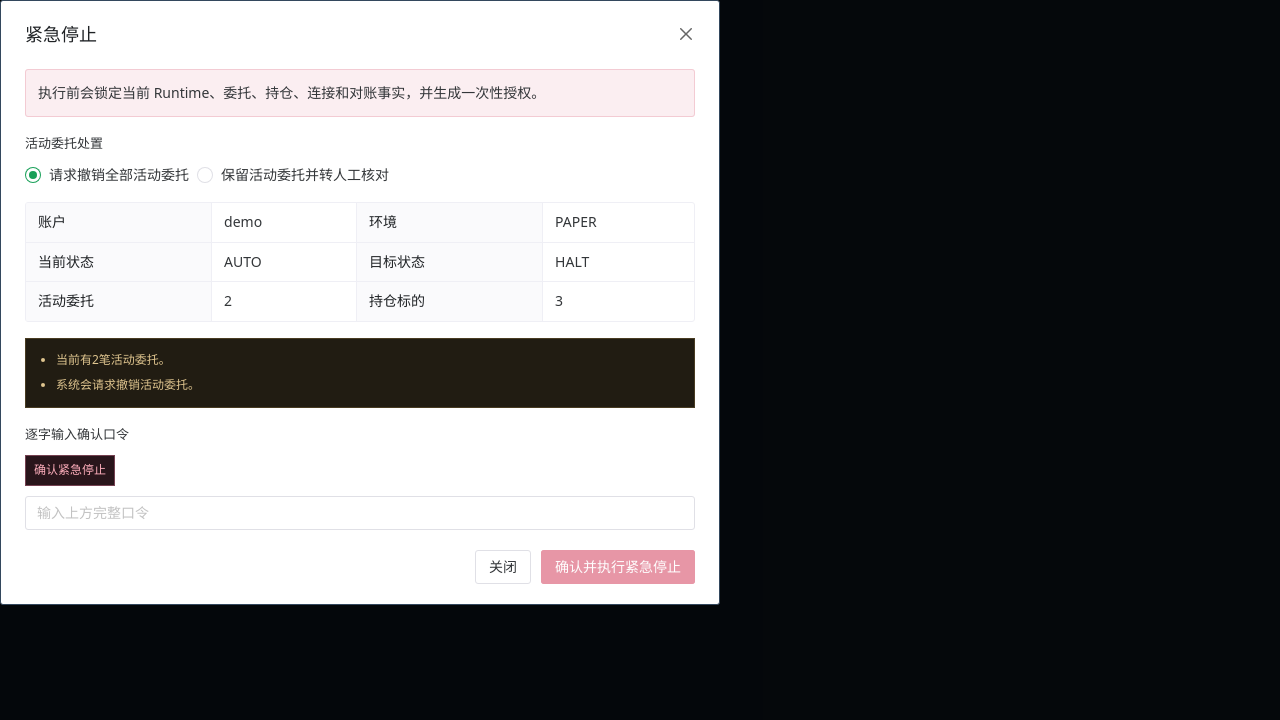
Test case: ProtectedControlDialog › shows live impact and requires the exact server phrase before execution
In the field with placeholder "输入上方完整口令": (360, 513) [37,496,683,530], type "确认紧急停止"
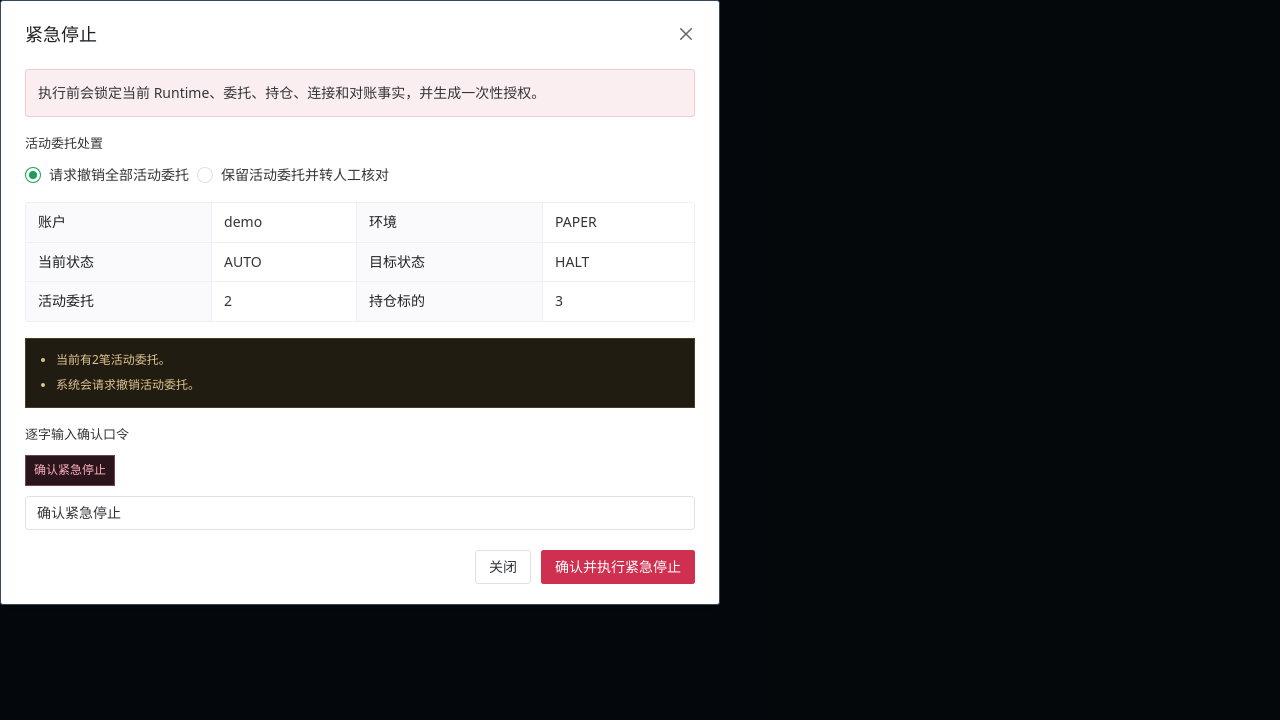
Click the button "确认并执行紧急停止": (618, 567) [541,550,695,584]
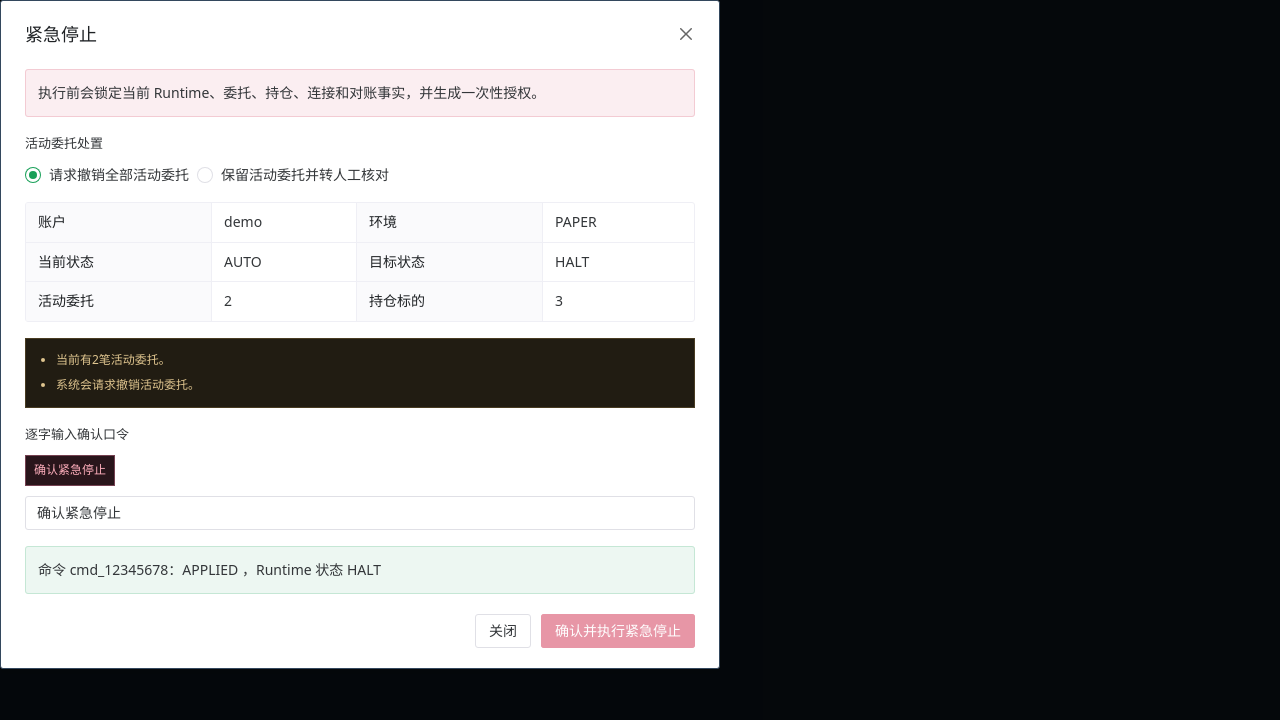
Expected: the text "Runtime 状态 HALT" is shown, [242,560,381,579]
